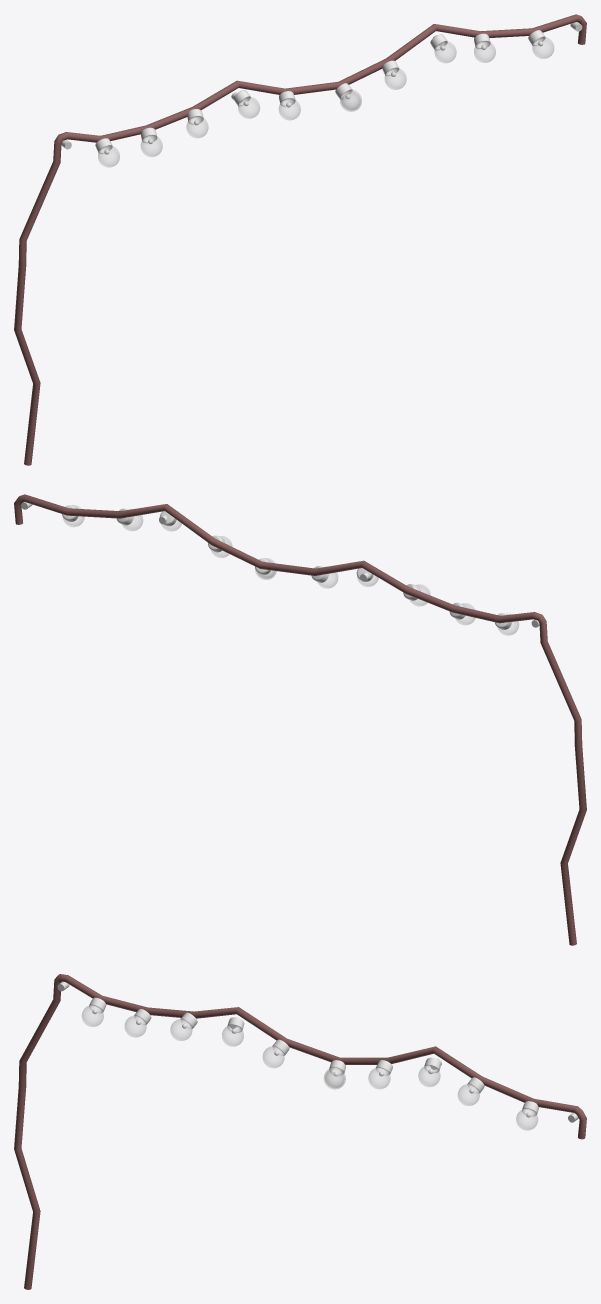
Rendered from String.glb.
3 views of the same model, one above another, from view 1: azimuth 30°, elevation 25°; view 2: azimuth 150°, elevation 25°; view 3: azimuth 330°, elevation 25° (orthographic).
Parts seen in each view (by area): view 1: Vert.012; view 2: Vert.012; view 3: Vert.012, Sphere.002, Sphere.004, Sphere.007, Sphere.008, Sphere, Sphere.001, Sphere.003, Sphere.005, Sphere.006, Sphere.009.
Boxes of the visible parts, box(x1,y1,x2,y2) form: Vert.012: box(14, 14, 586, 465); Vert.012: box(14, 494, 586, 945); Vert.012: box(14, 974, 586, 1289); Sphere.002: box(170, 1012, 197, 1040); Sphere.004: box(263, 1039, 289, 1067); Sphere.007: box(418, 1057, 441, 1086); Sphere.008: box(458, 1077, 484, 1105); Sphere: box(82, 997, 106, 1026); Sphere.001: box(125, 1009, 151, 1037); Sphere.003: box(222, 1017, 244, 1046); Sphere.005: box(324, 1060, 345, 1089); Sphere.006: box(368, 1060, 392, 1088); Sphere.009: box(516, 1101, 538, 1130).
Bounding box in the file's own units: 7.33 × 4.18 × 0.3444.
